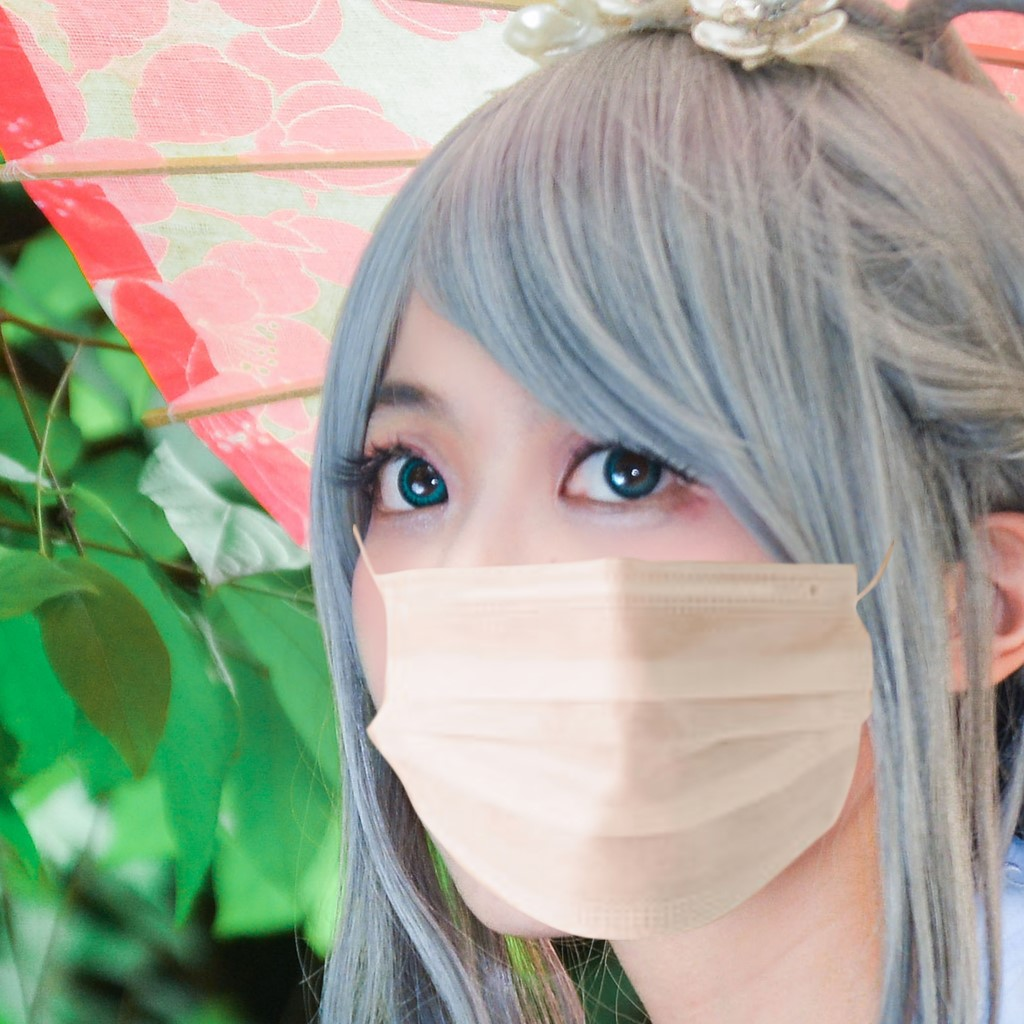con_mascara: (338, 101, 930, 991)
